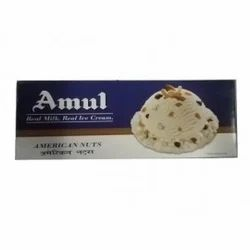Amul: (24, 85, 111, 112)
